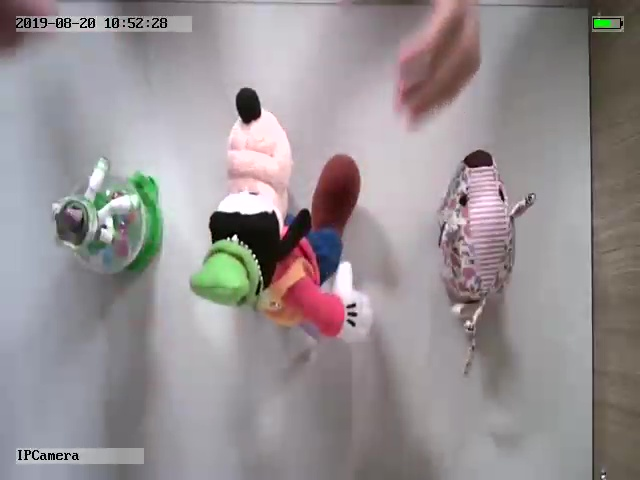buzz: (50, 156, 166, 280)
goofy: (187, 87, 372, 341)
pig: (436, 151, 538, 380)
